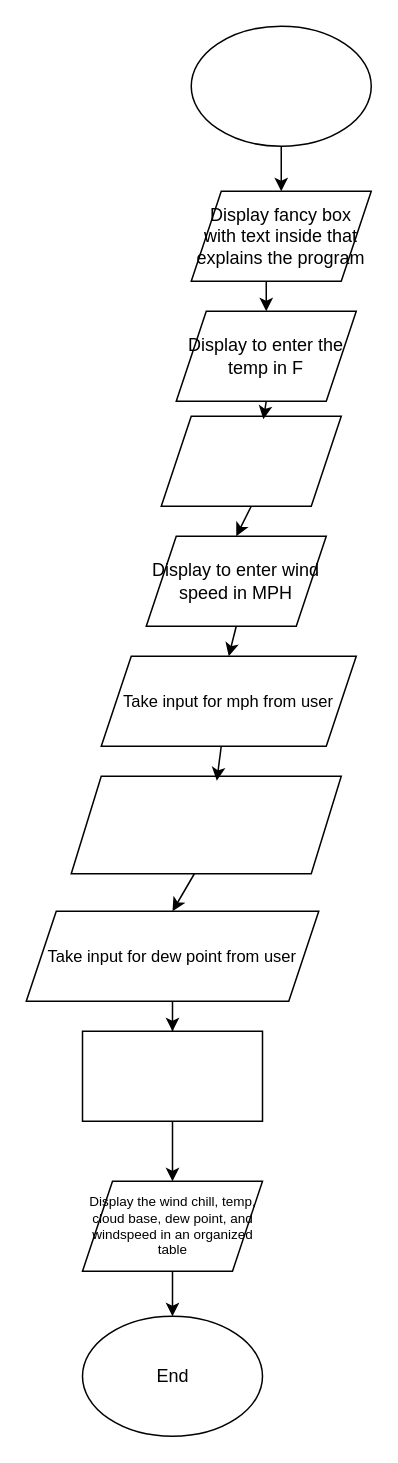
The diagram is 398 pixels wide and 1463 high, and some of its shapes have lost their labels. The box of each missing label's shape, as (x1, y1, x2, y2) in pixels:
Calculate wind chill in F and Cloud Base in feet: (81, 1030, 262, 1121)
Display to enter dew point in F: (70, 775, 341, 874)
Start: (190, 25, 371, 146)
Take input for temp from user: (160, 415, 341, 506)
